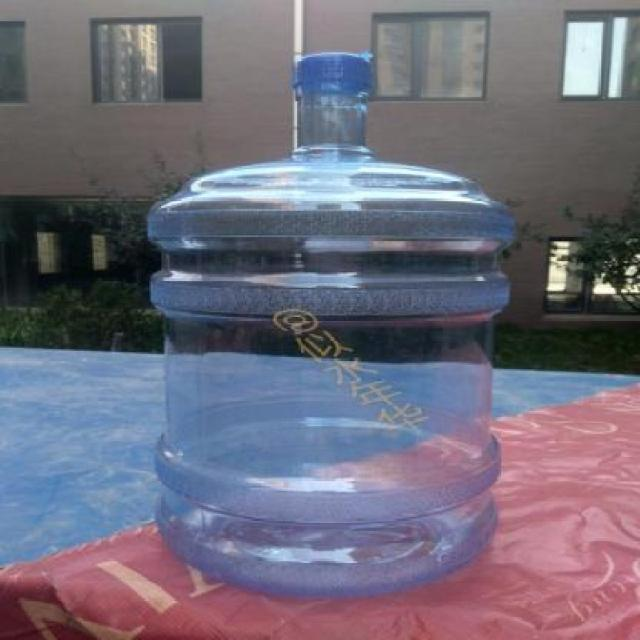coolerbottle: (145, 46, 524, 605)
